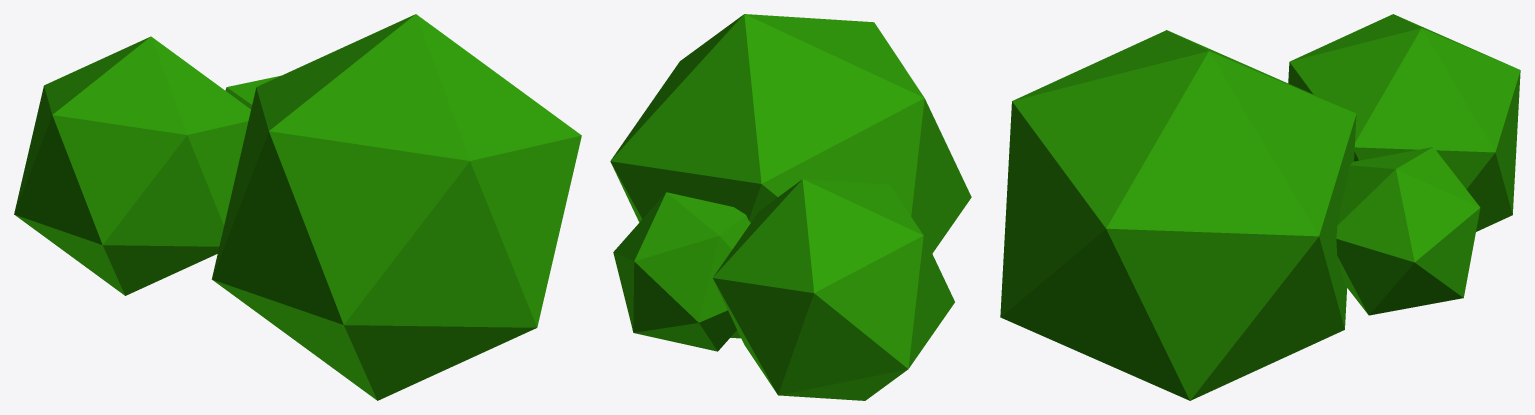
Rendered from ARBUSTO #1.fbx.
3 views of the same model, side by side, from view 1: azimuth 30°, elevation 25°; view 2: azimuth 150°, elevation 25°; view 3: azimuth 270°, elevation 25° (orthographic). The views are drawn at different scales.
Parts seen in each view (by area): view 1: Folha.003, Folha.002, Folha.001; view 2: Folha.003, Folha.002, Folha.001; view 3: Folha.003, Folha.002, Folha.001.
Part boxes in pixels (x1,y1,x2,y2): Folha.003: (211,14,581,400); Folha.002: (14,36,250,295); Folha.001: (225,75,280,109); Folha.003: (610,14,971,338); Folha.002: (713,179,954,400); Folha.001: (613,192,750,351); Folha.003: (1000,30,1356,400); Folha.002: (1288,14,1520,231); Folha.001: (1336,147,1480,315).
Size of the model in its own units: 204 by 169 by 219.
